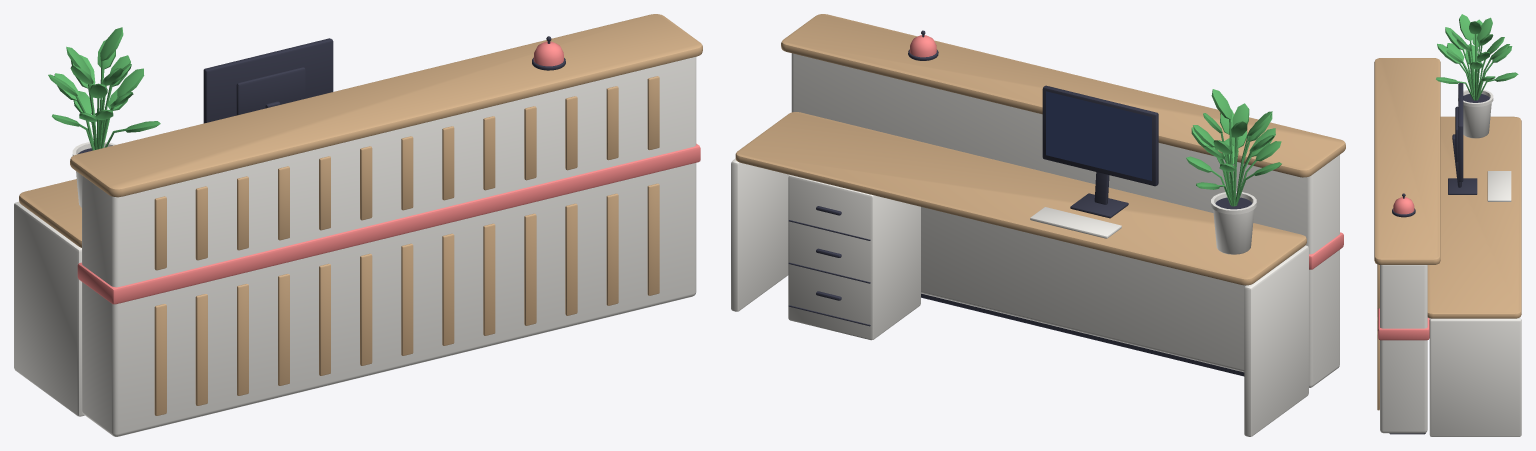
The model's file is reception_desk.glb.
3 views of the same model, side by side, from view 1: azimuth 30°, elevation 25°; view 2: azimuth 150°, elevation 25°; view 3: azimuth 270°, elevation 25° (orthographic). The views are drawn at different scales.
Visible parts, largest first — view 1: white, oak, accent_stripe, charcoal, leaf; view 2: white, oak, screen, charcoal, leaf, accent_stripe; view 3: oak, white, leaf, charcoal, accent_stripe.
Boxes of the visible parts, <box> form: white: <box>14,57,696,436</box>; oak: <box>19,14,702,415</box>; accent_stripe: <box>77,41,700,304</box>; charcoal: <box>78,36,565,153</box>; leaf: <box>48,27,160,150</box>; white: <box>731,53,1339,436</box>; oak: <box>735,14,1345,285</box>; screen: <box>1046,91,1151,180</box>; charcoal: <box>788,30,1252,376</box>; leaf: <box>1186,89,1281,206</box>; accent_stripe: <box>909,35,1343,269</box>; oak: <box>1374,58,1521,410</box>; white: <box>1380,89,1521,436</box>; leaf: <box>1436,14,1518,100</box>; charcoal: <box>1389,83,1489,434</box>; accent_stripe: <box>1378,197,1429,340</box>.
Bounding box in the file's own units: 2.6 × 1.46 × 0.8.
